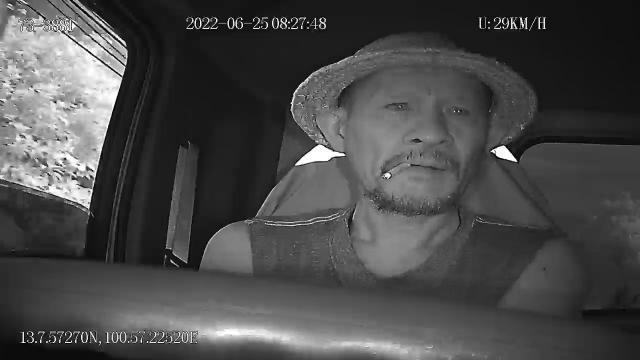SafeDriving: (378, 92, 418, 116), (438, 97, 475, 122)
Smoking: (382, 160, 412, 180)
